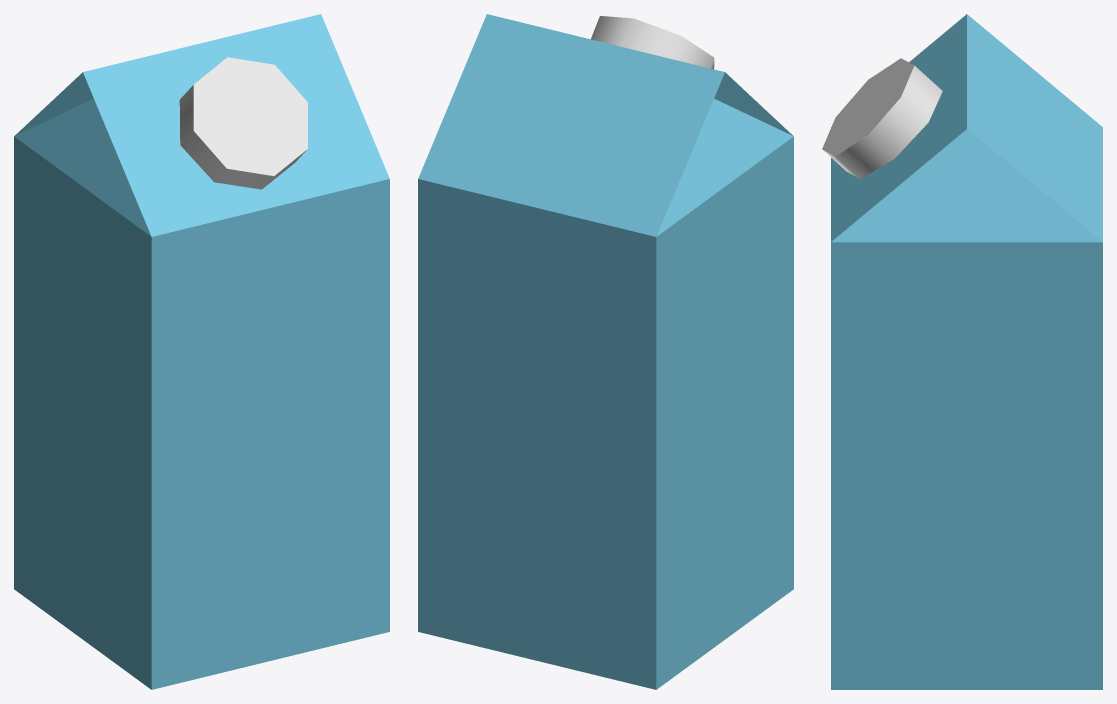
File: Milk.fbx
3 renders of one model, left to right at view 1: azimuth 30°, elevation 25°; view 2: azimuth 150°, elevation 25°; view 3: azimuth 270°, elevation 25°, orthographic.
Visible parts, largest first — view 1: Milk; view 2: Milk; view 3: Milk.
Part boxes in pixels (bbox=[...]): Milk: bbox=[14, 14, 389, 689]; Milk: bbox=[418, 14, 793, 689]; Milk: bbox=[822, 14, 1102, 689].
Size of the model in its own units: 60.98 by 140 by 63.01.
